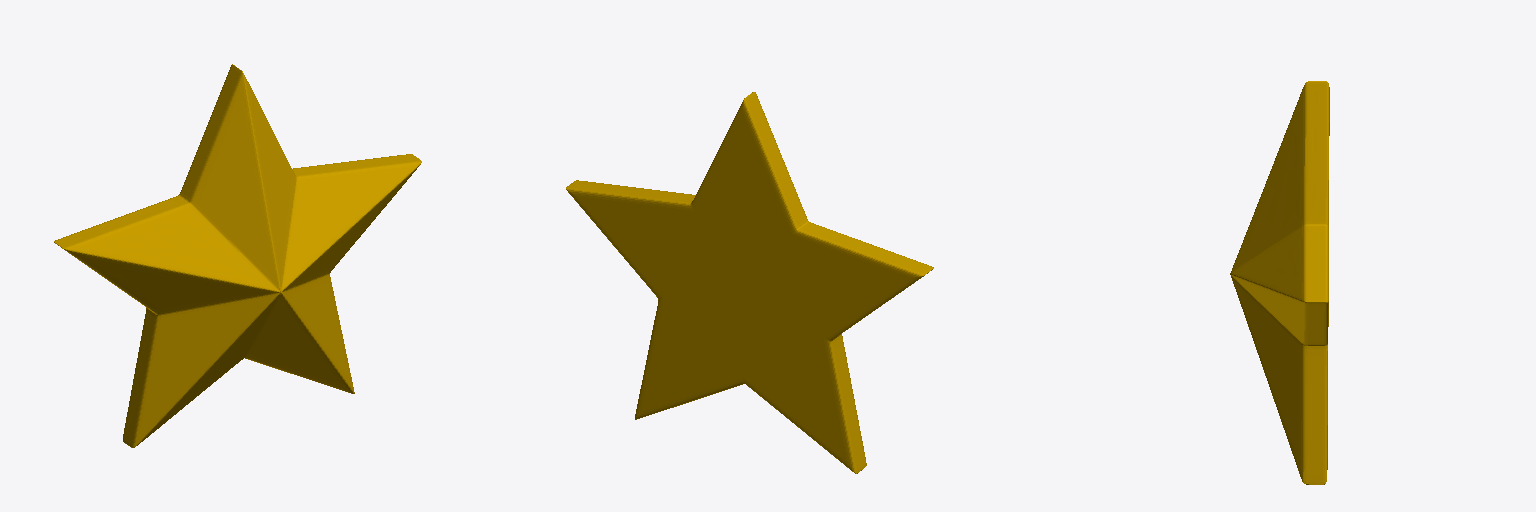
File: Star-Pin.obj
3 views of the same model, side by side, from view 1: azimuth 30°, elevation 25°; view 2: azimuth 150°, elevation 25°; view 3: azimuth 270°, elevation 25° (orthographic).
Parts seen in each view (by area): view 1: 19340_Star_v1; view 2: 19340_Star_v1; view 3: 19340_Star_v1.
Boxes of the visible parts, box(x1,y1,x2,y2) form: 19340_Star_v1: box(54, 64, 421, 447); 19340_Star_v1: box(566, 92, 933, 473); 19340_Star_v1: box(1230, 81, 1329, 484).
Bounding box in the file's own units: 0.6752 × 0.6282 × 0.1619.